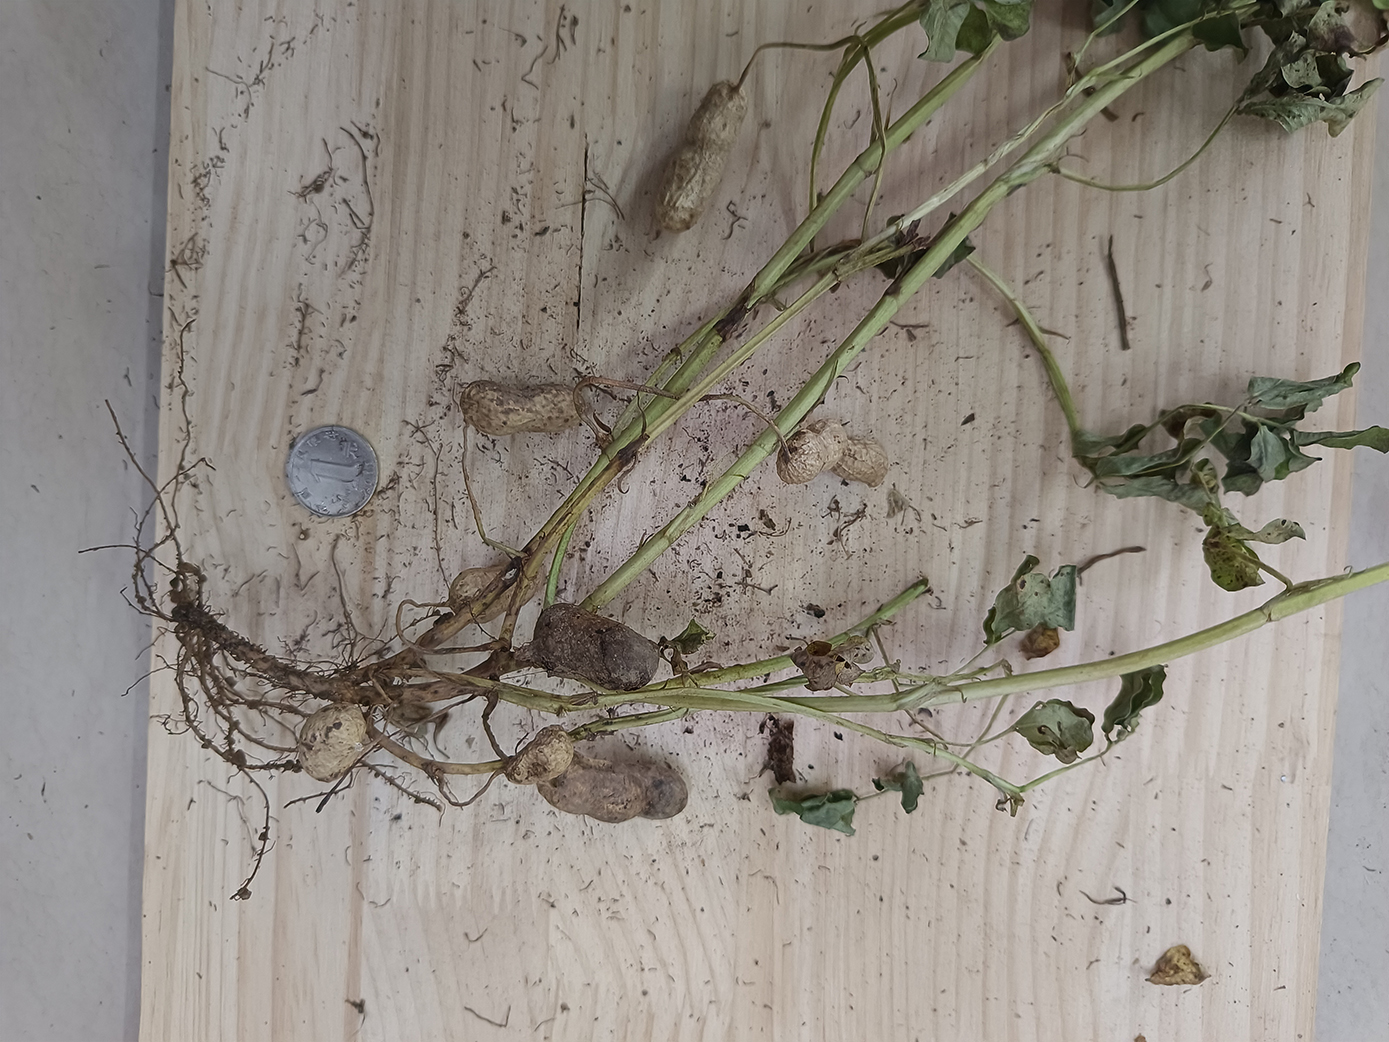h: (652, 78, 748, 233), (776, 419, 889, 489), (460, 381, 586, 435), (449, 565, 547, 621), (298, 701, 363, 782), (506, 725, 574, 786)
l: (535, 605, 658, 692), (539, 753, 688, 823)
